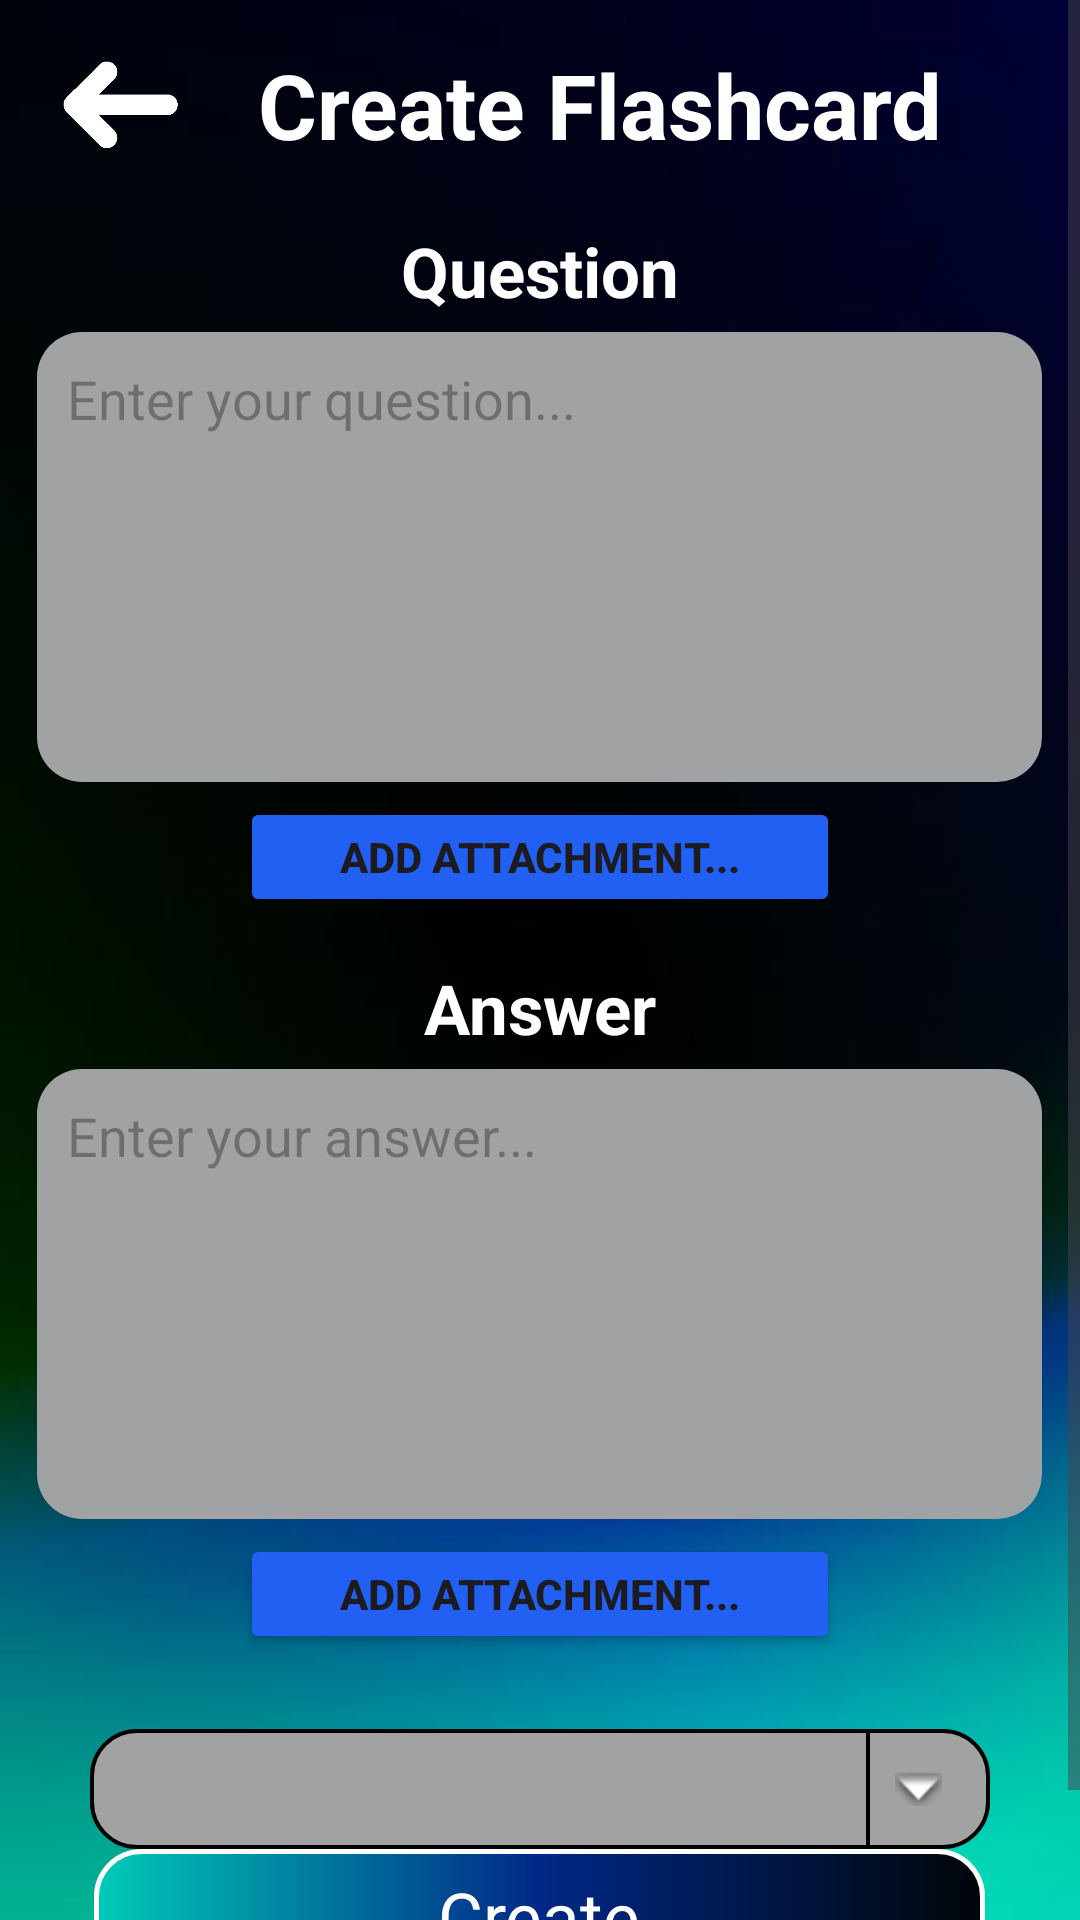

Screen size 1080x1920. Icon name, then its center in pixels as (x,y):
Back: (120,104)
